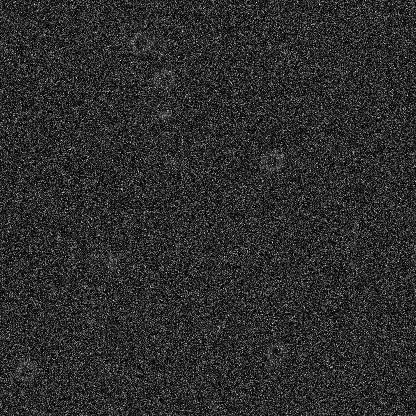Ring: (260, 149, 284, 173), (152, 66, 176, 90), (144, 34, 168, 58), (128, 31, 152, 55), (13, 359, 37, 383), (264, 341, 288, 365), (344, 255, 368, 279)
Spot: (162, 154, 178, 170), (102, 253, 118, 269), (157, 106, 173, 122)
